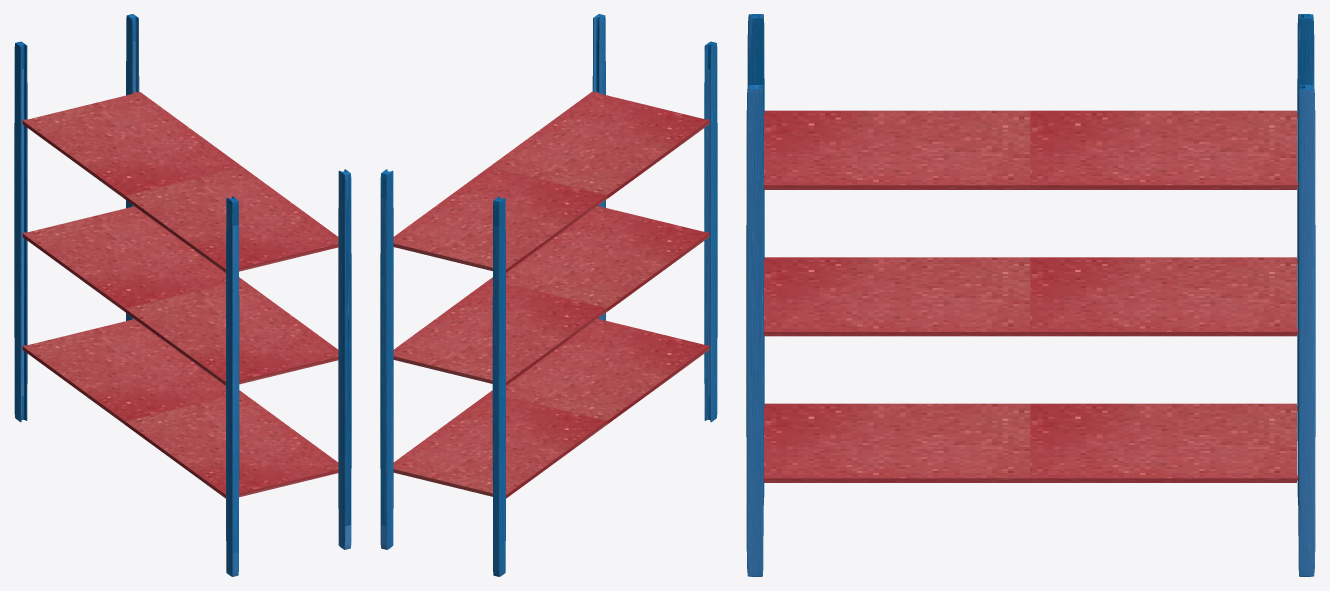
File: ShelvesLongV2.fbx
3 renders of one model, left to right at view 1: azimuth 30°, elevation 25°; view 2: azimuth 150°, elevation 25°; view 3: azimuth 270°, elevation 25°, orthographic. The views are drawn at different scales.
Visible parts, largest first — view 1: pasted__pCube7, pasted__pCube8, pasted__pCube15, pasted__pCube13, pasted__pCube14, pasted__pCube16, pCube1, pCube8, pCube7, pCube9; view 2: pasted__pCube8, pasted__pCube7, pasted__pCube14, pasted__pCube16, pasted__pCube15, pasted__pCube13, pCube9, pCube7, pCube8, pCube1; view 3: pasted__pCube7, pasted__pCube15, pasted__pCube13, pasted__pCube8, pasted__pCube16, pasted__pCube14, pCube1, pCube9, pCube8, pCube7.
Part boxes in pixels (x1,y1,x2,y2): pasted__pCube7: (22,91,242,198); pasted__pCube8: (125,167,338,272); pasted__pCube15: (22,318,242,424); pasted__pCube13: (22,206,242,311); pasted__pCube14: (125,280,338,385); pasted__pCube16: (125,393,338,498); pCube1: (338,169,351,549); pCube8: (14,41,27,422); pCube7: (226,196,239,576); pCube9: (126,14,139,320); pasted__pCube8: (490,91,709,198); pasted__pCube7: (393,167,607,272); pasted__pCube14: (490,206,709,311); pasted__pCube16: (490,318,709,424); pasted__pCube15: (393,392,607,498); pasted__pCube13: (393,279,607,385); pCube9: (380,169,393,549); pCube7: (704,41,717,422); pCube8: (492,196,505,576); pCube1: (592,14,605,320); pasted__pCube7: (1030,110,1298,189); pasted__pCube15: (1030,403,1298,482); pasted__pCube13: (1030,257,1298,336); pasted__pCube8: (763,110,1030,189); pasted__pCube16: (763,403,1030,482); pasted__pCube14: (763,257,1030,336); pCube1: (746,85,763,576); pCube9: (1298,85,1315,576); pCube8: (1297,14,1314,504); pCube7: (747,14,764,504).
Bounding box in the file's own units: 6.09 × 18.28 × 19.3.
2 materials, 2 textured.
